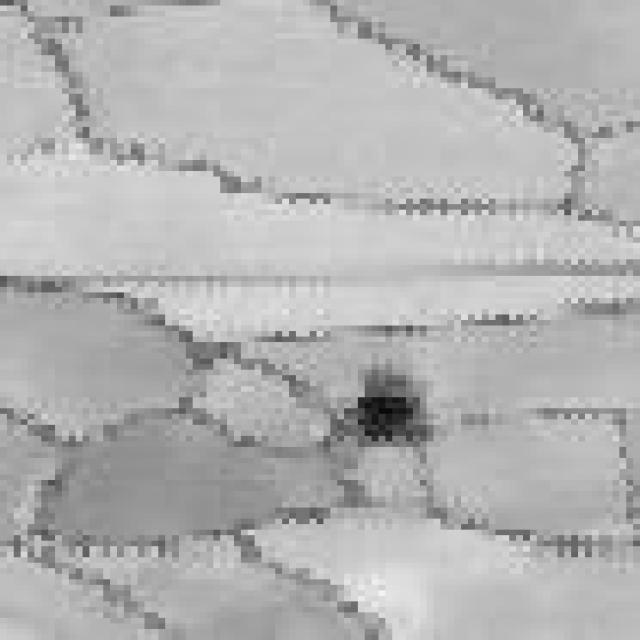good_void: (342, 354, 438, 454)
